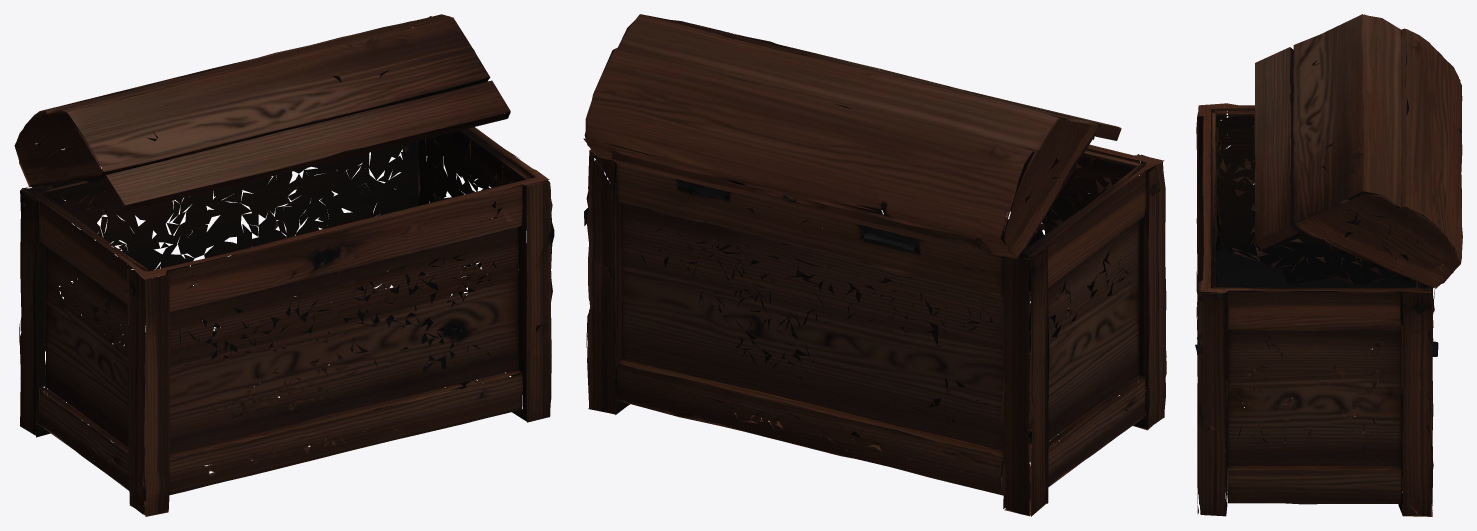
The picture shows the model from 3 angles, left to right: view 1: azimuth 30°, elevation 25°; view 2: azimuth 150°, elevation 25°; view 3: azimuth 270°, elevation 25°; orthographic projection. The views are drawn at different scales.
Visible parts, largest first — view 1: world; view 2: world; view 3: world.
Boxes of the visible parts, x1,y1,x2,y2 form: world: (14, 14, 554, 516); world: (583, 14, 1166, 516); world: (1195, 14, 1462, 516).
Size of the model in its own units: 1.02 by 0.7894 by 0.5962.
1 material, 1 textured.
